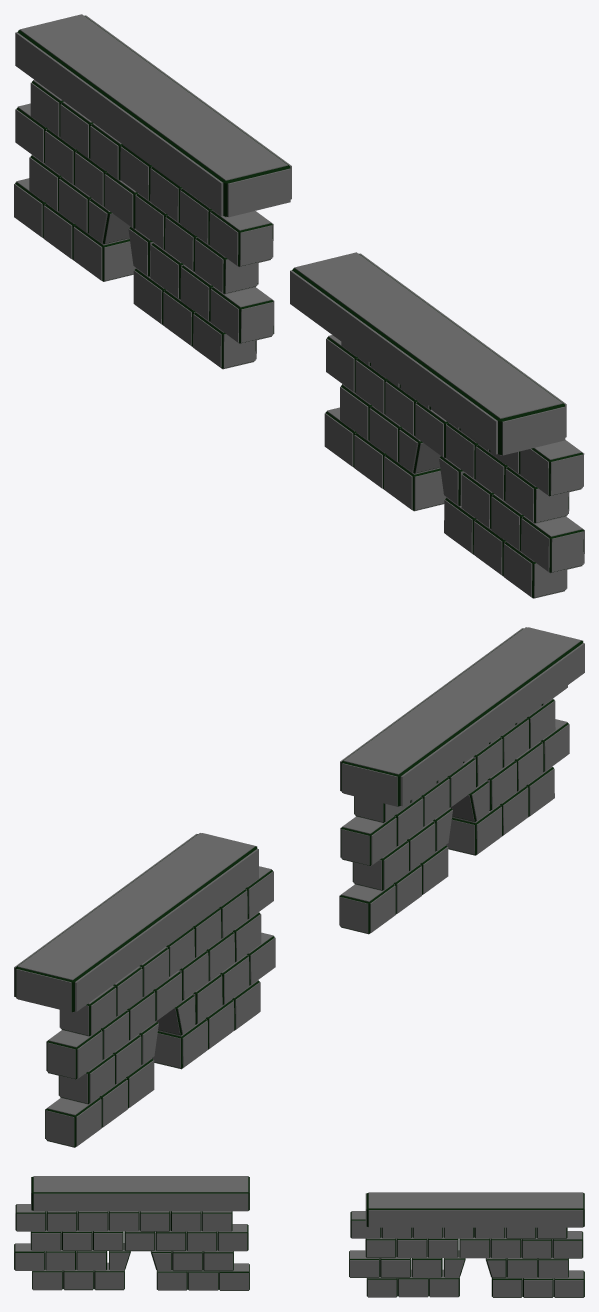
File: Z_Doors.fbx
3 views of the same model, one above another, from view 1: azimuth 30°, elevation 25°; view 2: azimuth 150°, elevation 25°; view 3: azimuth 270°, elevation 25° (orthographic). The views are drawn at different scales.
Parts seen in each view (by area): view 1: WallWithDoor.001, WallWithDoor; view 2: WallWithDoor.001, WallWithDoor; view 3: WallWithDoor, WallWithDoor.001.
Boxes of the visible parts, left/top/right/bottom form: WallWithDoor.001: left=14, top=14, right=291, bottom=369; WallWithDoor: left=290, top=252, right=584, bottom=598; WallWithDoor.001: left=14, top=833, right=275, bottom=1147; WallWithDoor: left=339, top=627, right=584, bottom=934; WallWithDoor: left=14, top=1176, right=249, bottom=1290; WallWithDoor.001: left=349, top=1192, right=584, bottom=1297.
Bounding box in the file's own units: 6.85 × 11 × 55.36.
